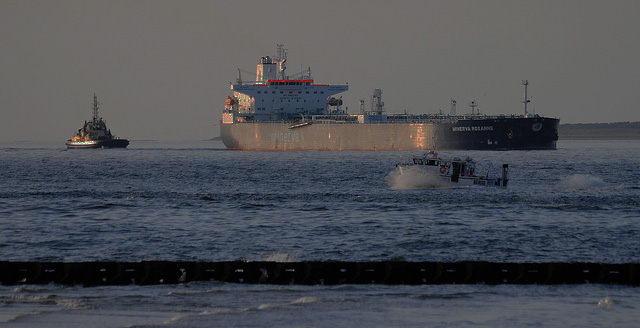boat: (389, 151, 516, 190)
tanker: (217, 46, 562, 149)
tug_boat: (67, 96, 128, 148)
